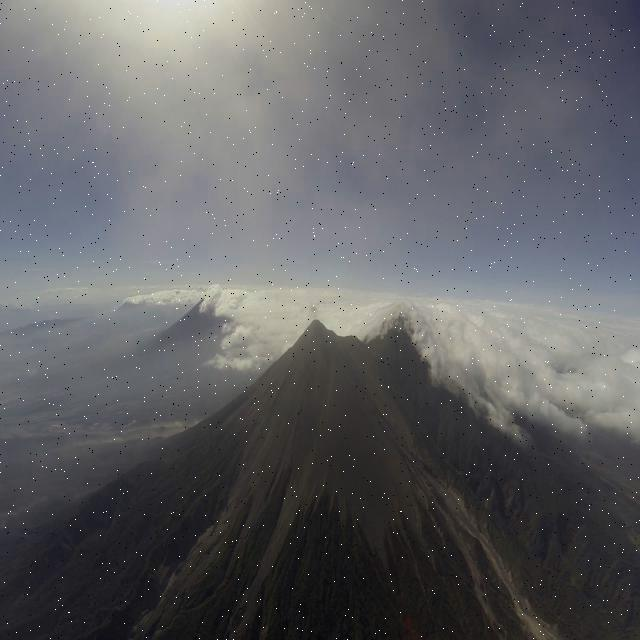Plume: (309, 303, 319, 320)
Summit: (304, 316, 337, 339)
